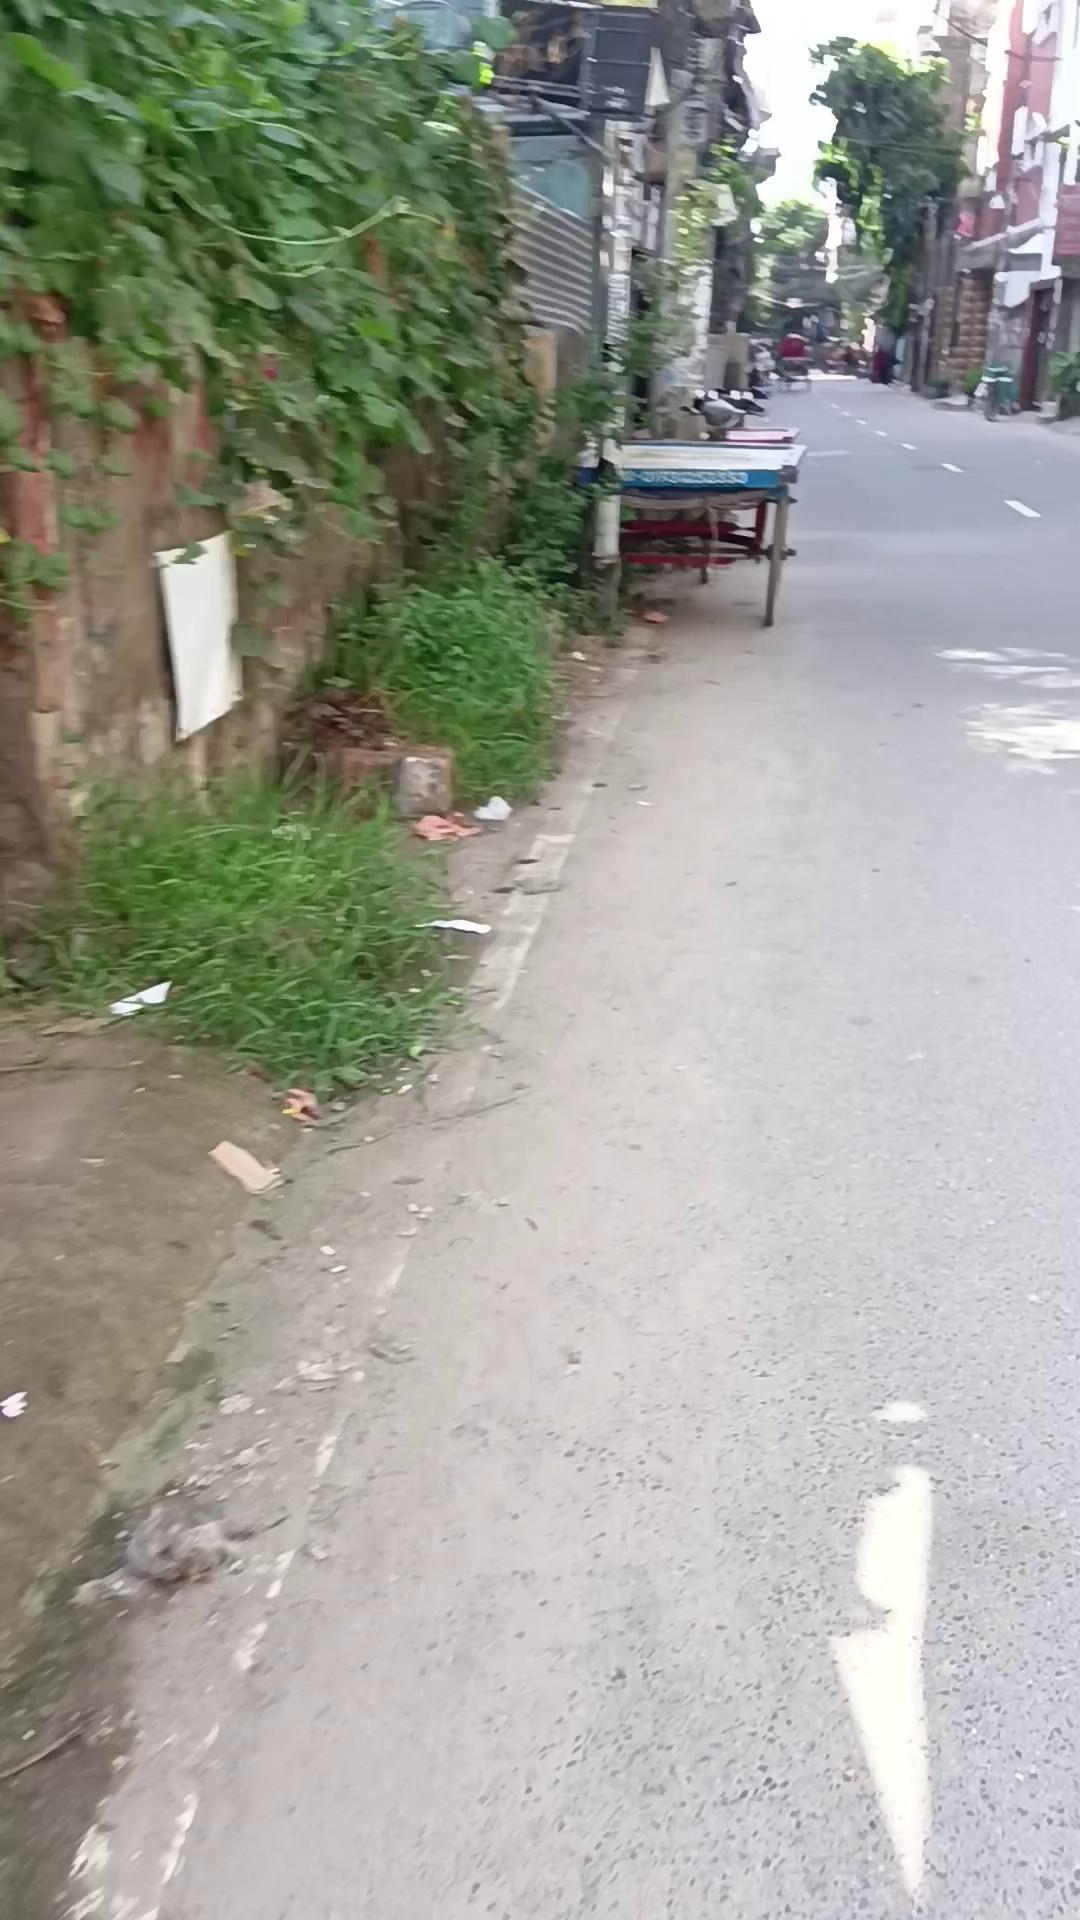Broken-road: (0, 1021, 298, 1920)
Fallen-tree: (1044, 349, 1079, 419)
Light-pole: (804, 32, 975, 382)
